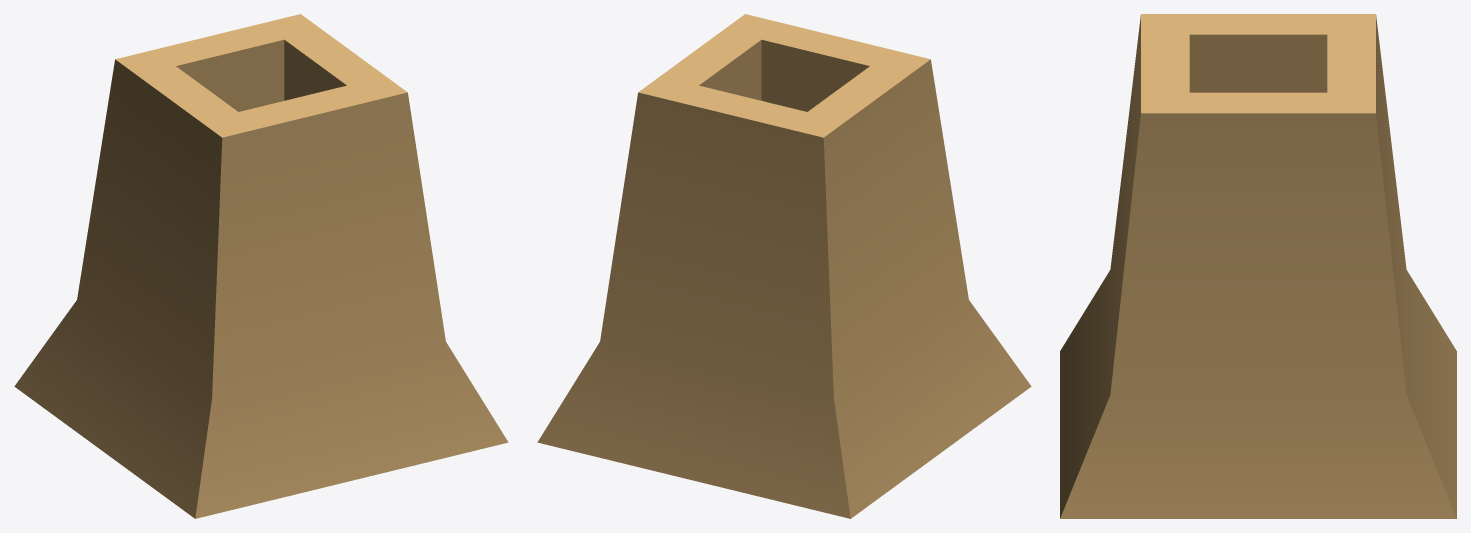
The model's file is Trunk_01.obj.
3 renders of one model, left to right at view 1: azimuth 30°, elevation 25°; view 2: azimuth 150°, elevation 25°; view 3: azimuth 270°, elevation 25°, orthographic. The views are drawn at different scales.
Parts seen in each view (by area): view 1: Mesh1_Trunk_Model; view 2: Mesh1_Trunk_Model; view 3: Mesh1_Trunk_Model.
Part boxes in pixels (bbox=[...]): Mesh1_Trunk_Model: bbox=[14, 14, 508, 518]; Mesh1_Trunk_Model: bbox=[537, 14, 1031, 518]; Mesh1_Trunk_Model: bbox=[1060, 14, 1456, 518].
Size of the model in its own units: 0.8037 by 0.83 by 0.8037.
